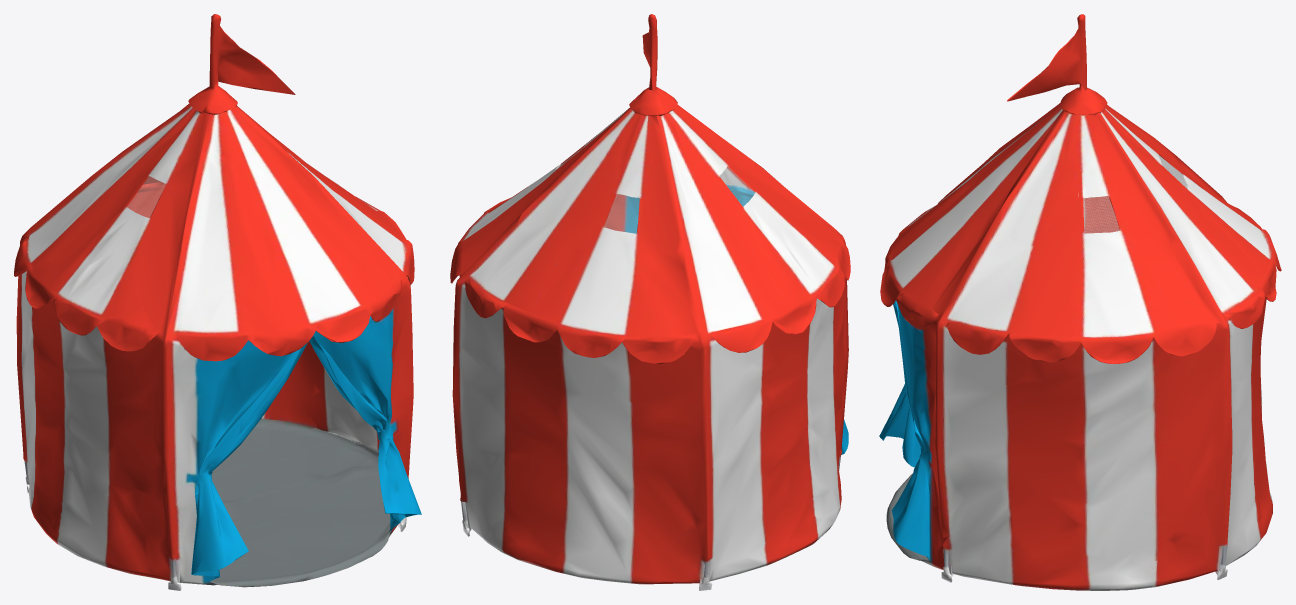
File: cirkustalt_namiot_dzieciecy_70581364.glb
3 views of the same model, side by side, from view 1: azimuth 30°, elevation 25°; view 2: azimuth 150°, elevation 25°; view 3: azimuth 270°, elevation 25° (orthographic).
Parts seen in each view (by area): view 1: cirkustalt_namiot_dzieciecy_70581364; view 2: cirkustalt_namiot_dzieciecy_70581364; view 3: cirkustalt_namiot_dzieciecy_70581364.
Boxes of the visible parts, x1=… form: cirkustalt_namiot_dzieciecy_70581364: x1=14, y1=14, x2=421, y2=590; cirkustalt_namiot_dzieciecy_70581364: x1=450, y1=14, x2=850, y2=590; cirkustalt_namiot_dzieciecy_70581364: x1=879, y1=14, x2=1281, y2=590.
Size of the model in its own units: 1.03 by 1.43 by 1.03.
2 materials, 2 textured.
